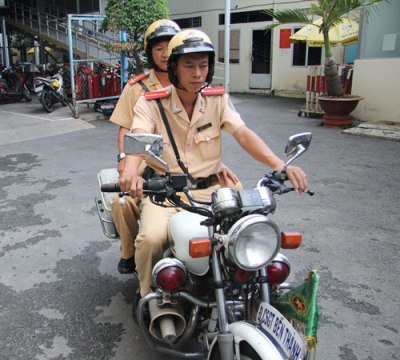police: (110, 15, 315, 351)
